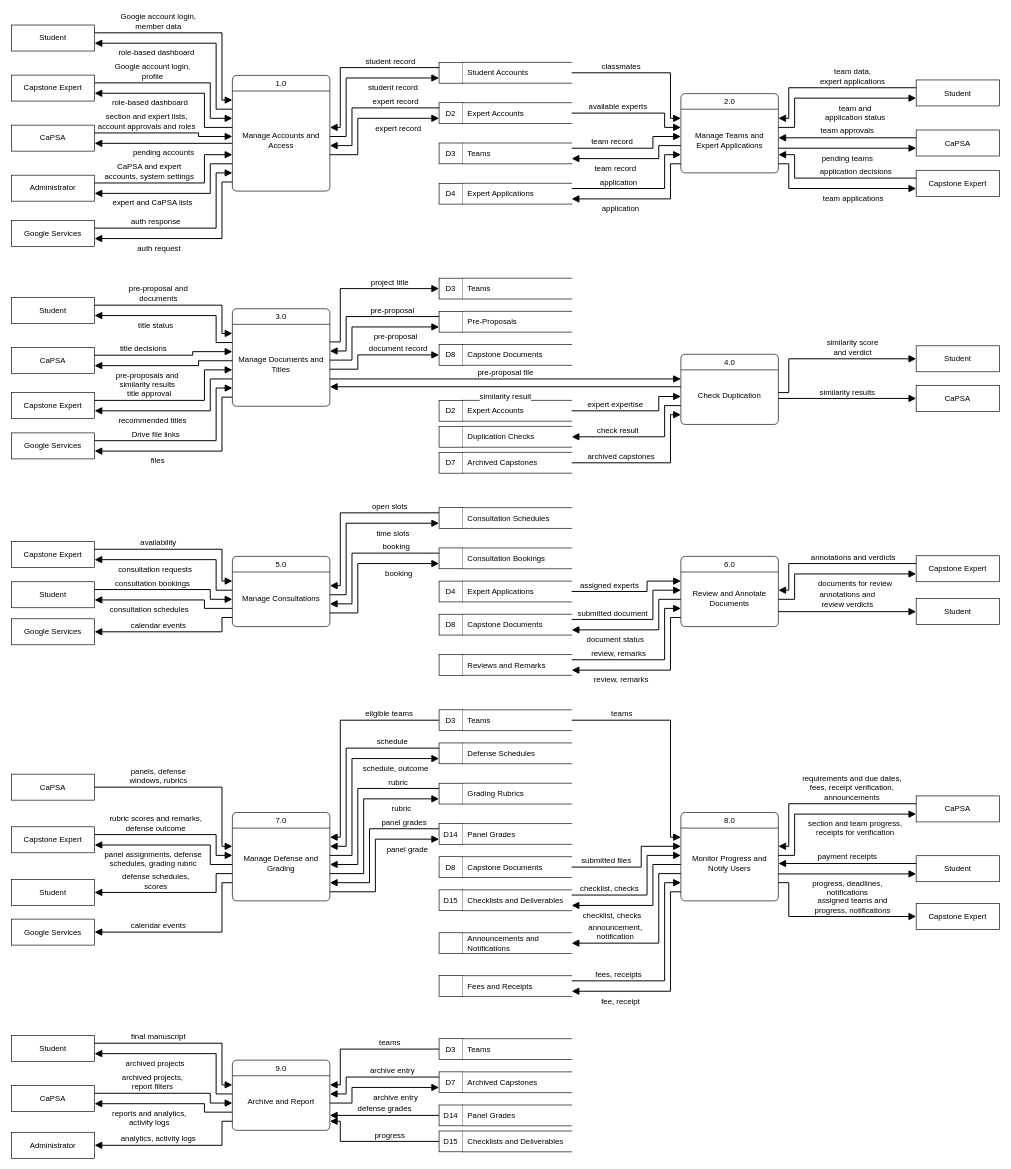
Some shapes in this 1011 by 1169 pixel diagram are drawn without their labels. Here are the shapes that lost their labels. From the top down, the centre of each, then its label:
At point 450,72: "D1".
At point 450,321: "D5".
At point 450,436: "D6".
At point 450,517: "D10".
At point 450,558: "D11".
At point 450,664: "D9".
At point 450,753: "D12".
At point 450,793: "D13".
At point 450,943: "D16".
At point 450,985: "D17".
